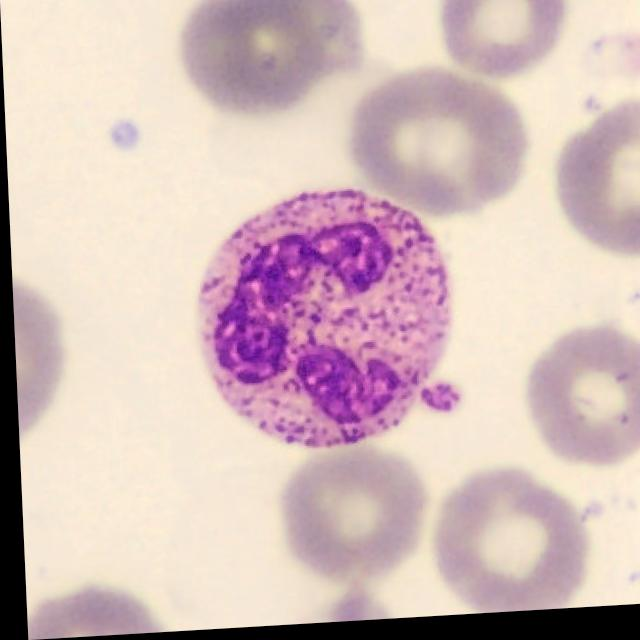Neutrofilo segmentado: (192, 195, 451, 454)
